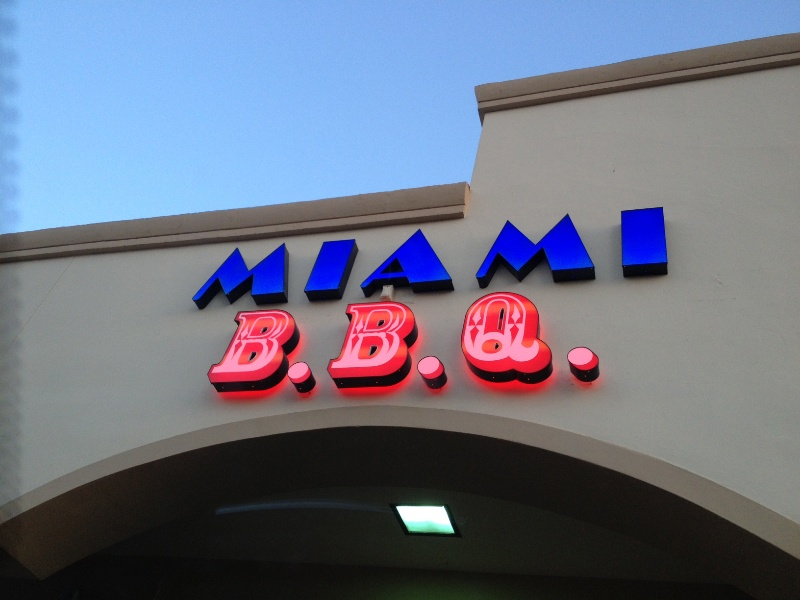letters: (176, 308, 313, 432), (329, 301, 424, 401), (475, 210, 594, 288), (461, 293, 554, 381), (615, 190, 685, 281), (358, 231, 458, 289), (188, 248, 290, 299), (299, 232, 361, 307)
